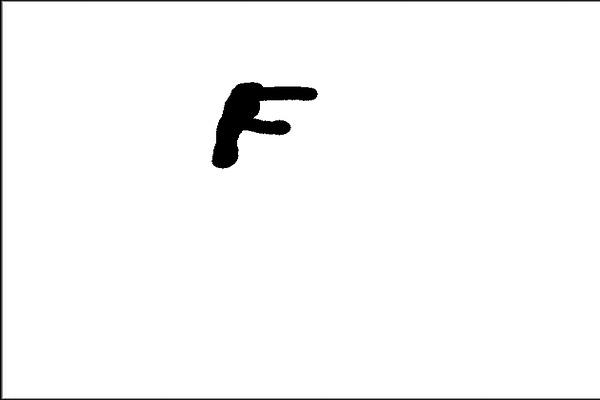F: (204, 78, 321, 173)
